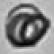correct: (4, 4, 52, 49)
